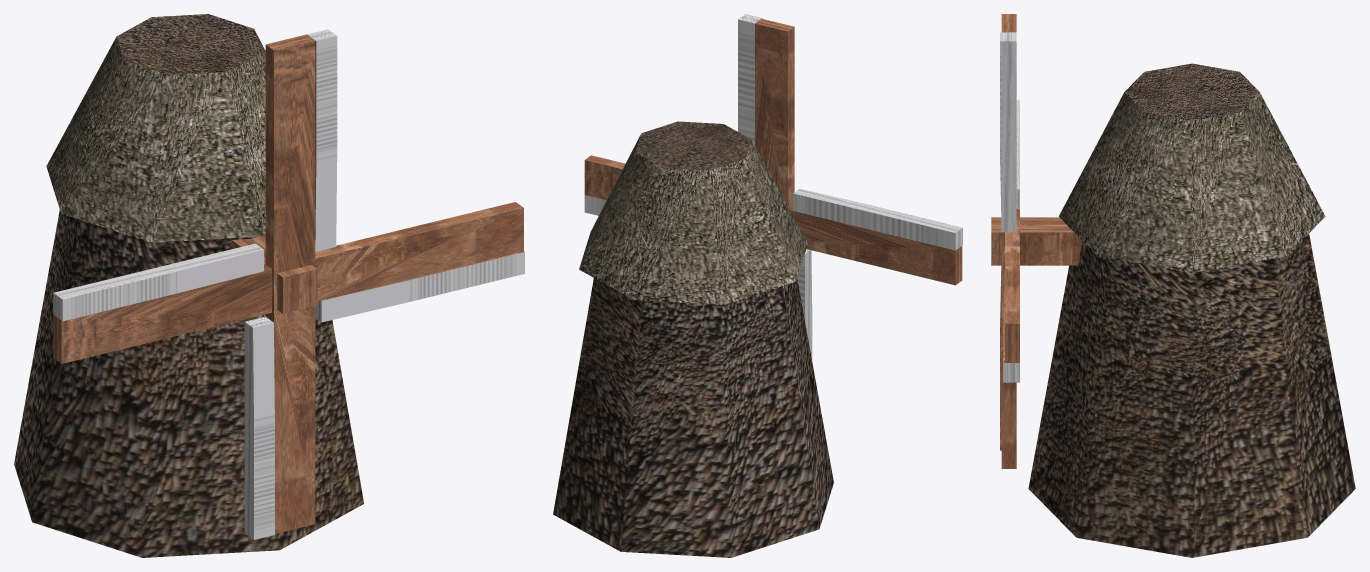
File: Molen.FBX
3 renders of one model, left to right at view 1: azimuth 30°, elevation 25°; view 2: azimuth 150°, elevation 25°; view 3: azimuth 270°, elevation 25°, orthographic. The views are drawn at different scales.
Visible parts, largest first — view 1: MolenBase, Molenbalk; view 2: MolenBase, Molenbalk; view 3: MolenBase, Molenbalk.
Boxes of the visible parts, x1,y1,x2,y2 form: MolenBase: (14, 14, 363, 557); Molenbalk: (53, 29, 524, 539); MolenBase: (553, 121, 833, 557); Molenbalk: (584, 14, 962, 360); MolenBase: (1028, 63, 1355, 557); Molenbalk: (991, 14, 1082, 468).
Size of the model in its own units: 399 by 302 by 425.
4 materials, 4 textured.
